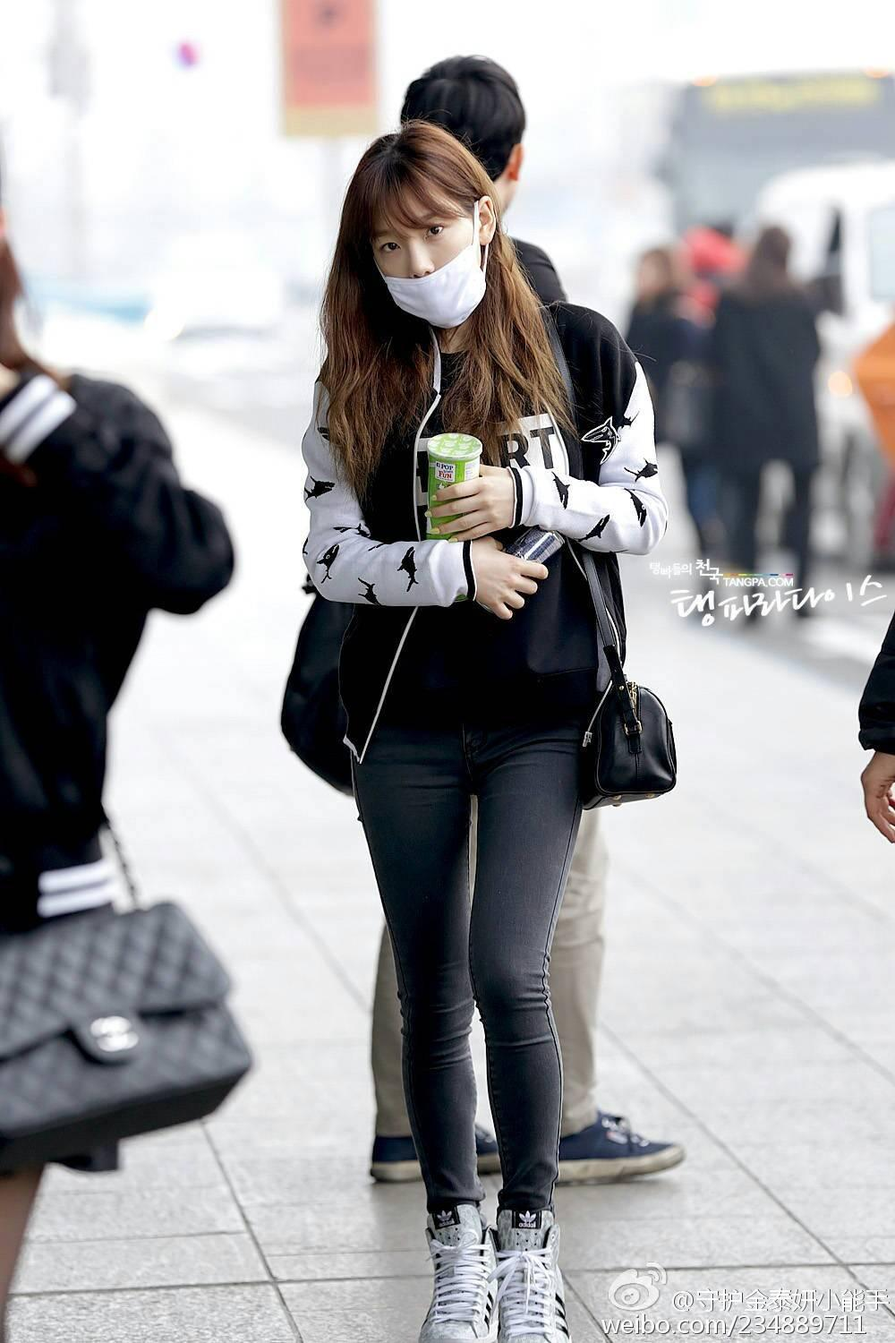WRONG: (375, 204, 486, 330)
